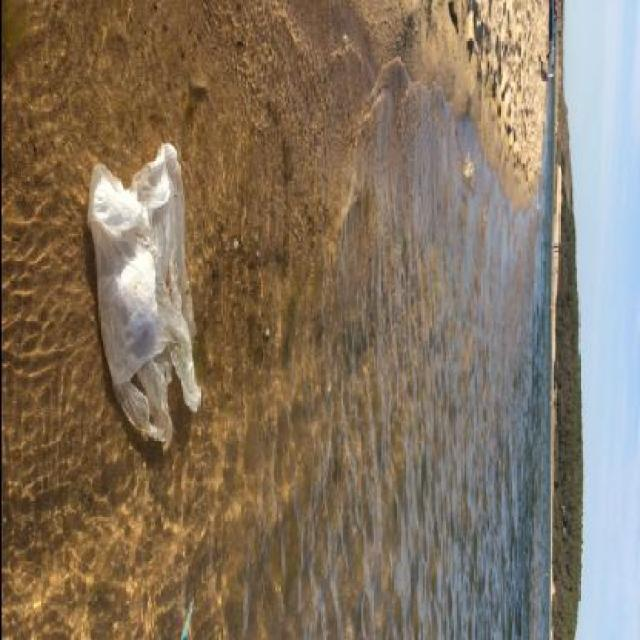plastic: (85, 142, 200, 449)
